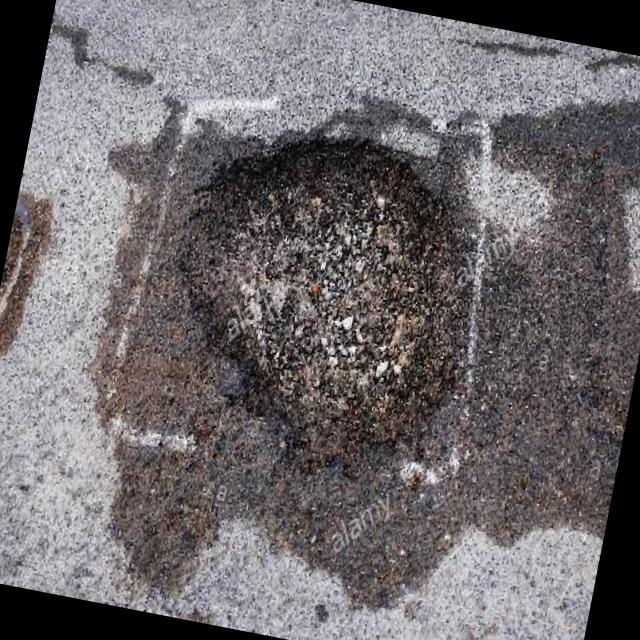Lubang: (187, 157, 471, 478)
